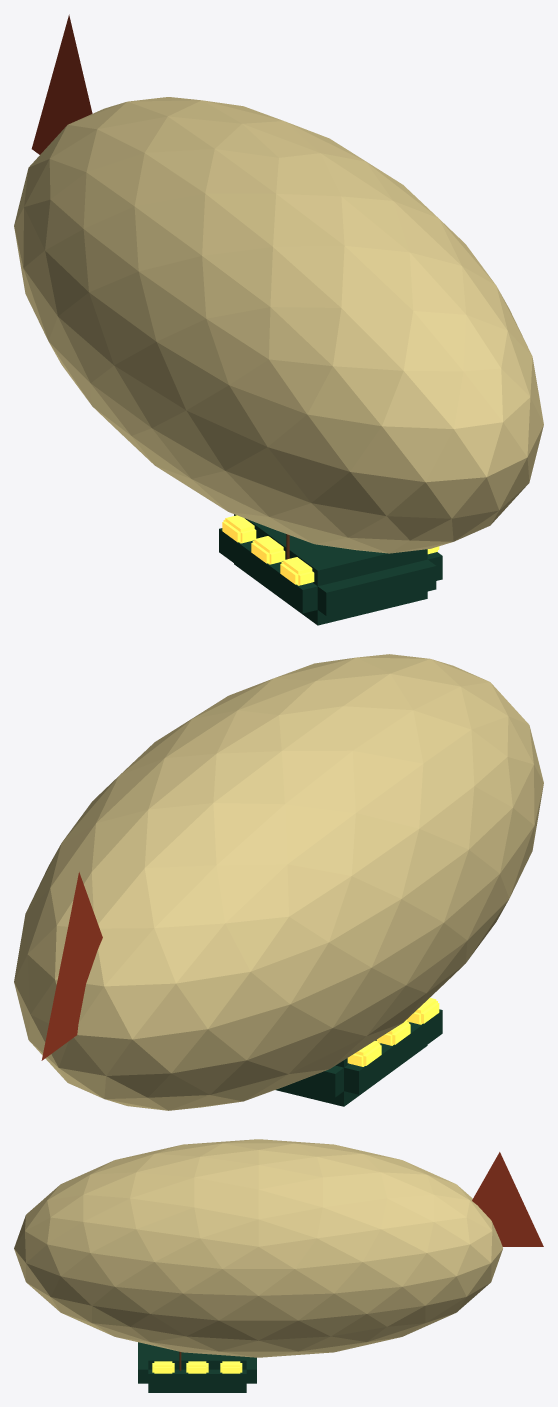
File: airship.glb
The picture shows the model from 3 angles, top to bottom: view 1: azimuth 30°, elevation 25°; view 2: azimuth 150°, elevation 25°; view 3: azimuth 270°, elevation 25°; orthographic projection. The views are drawn at different scales.
Parts seen in each view (by area): view 1: The travelling postal serviceMesh; view 2: The travelling postal serviceMesh; view 3: The travelling postal serviceMesh.
Boxes of the visible parts, x1,y1,x2,y2 form: The travelling postal serviceMesh: (14,14,543,625); The travelling postal serviceMesh: (14,654,543,1110); The travelling postal serviceMesh: (14,1139,543,1392).
Size of the model in its own units: 6.6 by 7.38 by 15.6.
